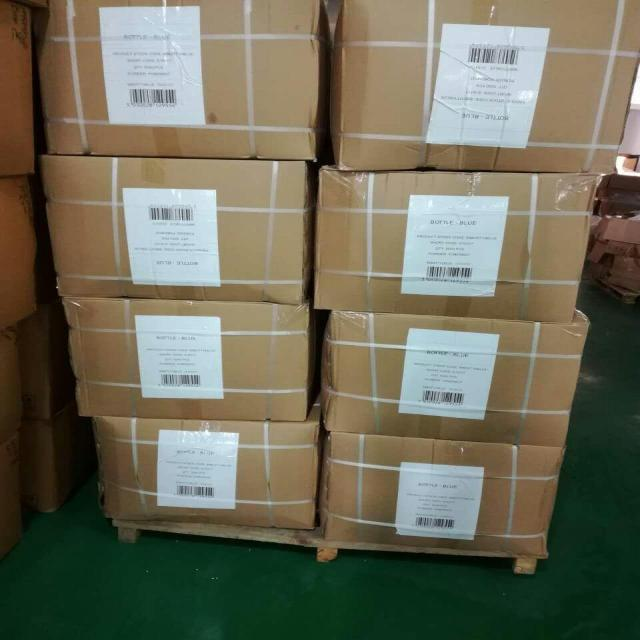box: (329, 0, 640, 179), (307, 153, 597, 329), (34, 148, 329, 308), (40, 0, 324, 166), (321, 298, 596, 450), (304, 176, 601, 315), (50, 283, 318, 427), (310, 426, 573, 554), (84, 404, 313, 540)
